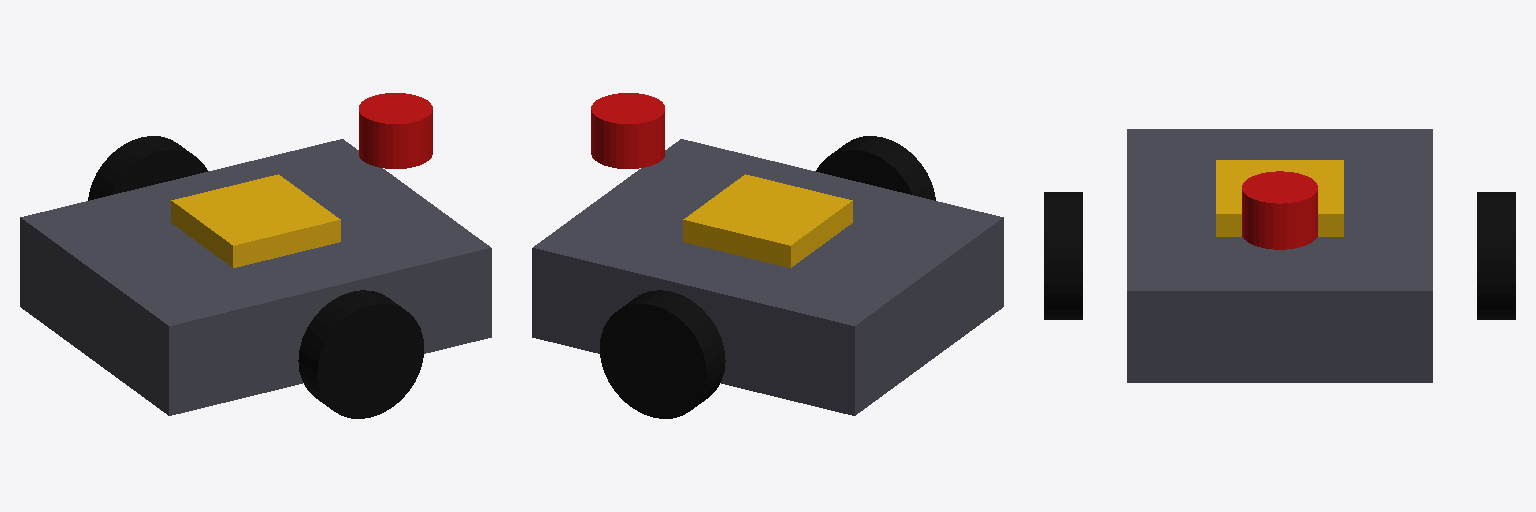
URDF robot description (mobile_manipulator):
<?xml version="1.0"?>
<!--
  Assignment 3, Task 4 — mount your Task 1 arm on this mobile base.

  Everything below the materials block is DONE for you: chassis, two drive
  wheels, a front caster, a 2D lidar, and an `arm_mount` plate on top. This
  is provided infrastructure, not something to design — your only job is
  the ARM SPLICE section near the bottom.

  How to splice your arm in:
    1. Open your completed Task 1 `arm.urdf`.
    2. Copy the THREE joints (shoulder_pitch, elbow_pitch, wrist_pitch) and
       THREE links (upper_arm, forearm, end_effector) into the marked
       section below. Do NOT copy `base_link` — the `arm_mount` plate
       below replaces it; you don't need two robot bases.
    3. In the shoulder_pitch joint you just pasted, change
         <parent link="base_link"/>
       to
         <parent link="arm_mount"/>
       That's it — leave the joint's <origin> exactly as you wrote it in
       Task 1. The 0.03 m your Task 1 base_link used to occupy just becomes
       a harmless standoff between the plate and the shoulder.

  Why this works: your arm's own root link happened to be named
  "base_link" too — the exact name this mobile base's chassis already
  uses. Two links can't share a name in one URDF, which is *why* you skip
  pasting the arm's base_link rather than renaming something.
-->
<robot name="mobile_manipulator">

  <material name="chassis_grey">
    <color rgba="0.35 0.35 0.4 1.0"/>
  </material>
  <material name="wheel_black">
    <color rgba="0.1 0.1 0.1 1.0"/>
  </material>
  <material name="caster_grey">
    <color rgba="0.5 0.5 0.5 1.0"/>
  </material>
  <material name="lidar_red">
    <color rgba="0.8 0.1 0.1 1.0"/>
  </material>
  <material name="mount_yellow">
    <color rgba="0.9 0.7 0.1 1.0"/>
  </material>
  <material name="blue">
    <color rgba="0.2 0.4 0.8 1.0"/>
  </material>
  <material name="orange">
    <color rgba="0.9 0.5 0.1 1.0"/>
  </material>
  <material name="green">
    <color rgba="0.2 0.7 0.3 1.0"/>
  </material>

  <!-- ============ base_link (chassis) — PROVIDED ============
       Box 0.30 x 0.24 x 0.08 m, mass 5.0 kg. Origin is at wheel-axle
       height (0.05 m off the ground = wheel radius), so the chassis box
       is centered on it (spans z = -0.04 .. +0.04).
  -->
  <link name="base_link">
    <visual>
      <origin xyz="0 0 0" rpy="0 0 0"/>
      <geometry>
        <box size="0.30 0.24 0.08"/>
      </geometry>
      <material name="chassis_grey"/>
    </visual>
    <collision>
      <origin xyz="0 0 0" rpy="0 0 0"/>
      <geometry>
        <box size="0.30 0.24 0.08"/>
      </geometry>
    </collision>
    <inertial>
      <origin xyz="0 0 0" rpy="0 0 0"/>
      <mass value="5.0"/>
      <inertia ixx="0.026667" iyy="0.040167" izz="0.061500"
               ixy="0" ixz="0" iyz="0"/>
    </inertial>
  </link>

  <!-- ============ drive wheels — PROVIDED ============
       Cylinders, radius 0.05 m, thickness 0.03 m, mass 0.3 kg each.
       Track width 0.34 m (0.17 m each side of centerline). The cylinder's
       own axis is Z; rpy="1.5708 0 0" rotates it onto Y so it rolls about
       the joint's axis. The <inertial> origin carries the same rotation,
       so ixx/iyy/izz below are the plain "cylinder spinning about Z"
       formulas (izz = 1/2 m r^2 is the spin axis, about local Z before
       rotation).
  -->
  <joint name="left_wheel_joint" type="continuous">
    <parent link="base_link"/>
    <child link="left_wheel"/>
    <origin xyz="0 0.17 0" rpy="0 0 0"/>
    <axis xyz="0 1 0"/>
  </joint>

  <link name="left_wheel">
    <visual>
      <origin xyz="0 0 0" rpy="1.5708 0 0"/>
      <geometry>
        <cylinder radius="0.05" length="0.03"/>
      </geometry>
      <material name="wheel_black"/>
    </visual>
    <collision>
      <origin xyz="0 0 0" rpy="1.5708 0 0"/>
      <geometry>
        <cylinder radius="0.05" length="0.03"/>
      </geometry>
    </collision>
    <inertial>
      <origin xyz="0 0 0" rpy="1.5708 0 0"/>
      <mass value="0.3"/>
      <inertia ixx="0.00021" iyy="0.00021" izz="0.000375"
               ixy="0" ixz="0" iyz="0"/>
    </inertial>
  </link>

  <joint name="right_wheel_joint" type="continuous">
    <parent link="base_link"/>
    <child link="right_wheel"/>
    <origin xyz="0 -0.17 0" rpy="0 0 0"/>
    <axis xyz="0 1 0"/>
  </joint>

  <link name="right_wheel">
    <visual>
      <origin xyz="0 0 0" rpy="1.5708 0 0"/>
      <geometry>
        <cylinder radius="0.05" length="0.03"/>
      </geometry>
      <material name="wheel_black"/>
    </visual>
    <collision>
      <origin xyz="0 0 0" rpy="1.5708 0 0"/>
      <geometry>
        <cylinder radius="0.05" length="0.03"/>
      </geometry>
    </collision>
    <inertial>
      <origin xyz="0 0 0" rpy="1.5708 0 0"/>
      <mass value="0.3"/>
      <inertia ixx="0.00021" iyy="0.00021" izz="0.000375"
               ixy="0" ixz="0" iyz="0"/>
    </inertial>
  </link>

  <!-- ============ caster — PROVIDED ============
       Sphere, radius 0.025 m, mass 0.2 kg, mounted front centre. Note the
       joint below is FIXED, not a roll axis: the sphere slides rather than
       rolls, so it skids slightly as the robot turns. That skid shows up
       as heading drift in the wheel odometry DiffDrive publishes, while
       the travelled distance stays accurate.

       This is not a bug to fix here — it is why Task 4 Part B needs a
       localization component at all. Localization corrects that drift
       against the map, so the robot still arrives at the goal.
  -->
  <joint name="caster_joint" type="fixed">
    <parent link="base_link"/>
    <child link="caster_wheel"/>
    <origin xyz="0.12 0 -0.025" rpy="0 0 0"/>
  </joint>

  <link name="caster_wheel">
    <visual>
      <origin xyz="0 0 0" rpy="0 0 0"/>
      <geometry>
        <sphere radius="0.025"/>
      </geometry>
      <material name="caster_grey"/>
    </visual>
    <collision>
      <origin xyz="0 0 0" rpy="0 0 0"/>
      <geometry>
        <sphere radius="0.025"/>
      </geometry>
    </collision>
    <inertial>
      <origin xyz="0 0 0" rpy="0 0 0"/>
      <mass value="0.2"/>
      <inertia ixx="0.00005" iyy="0.00005" izz="0.00005"
               ixy="0" ixz="0" iyz="0"/>
    </inertial>
  </link>

  <!-- ============ 2D lidar — PROVIDED ============
       Mounted front-top, forward-facing. Mass 0.15 kg. The actual
       <sensor> block (what makes this a real lidar in Gazebo) is in
       gazebo_plugins_diffdrive_snippet.xml — this link is just its
       mechanical mount point.
  -->
  <joint name="lidar_joint" type="fixed">
    <parent link="base_link"/>
    <child link="lidar_link"/>
    <origin xyz="0.13 0 0.10" rpy="0 0 0"/>
  </joint>

  <link name="lidar_link">
    <visual>
      <origin xyz="0 0 0" rpy="0 0 0"/>
      <geometry>
        <cylinder radius="0.03" length="0.04"/>
      </geometry>
      <material name="lidar_red"/>
    </visual>
    <collision>
      <origin xyz="0 0 0" rpy="0 0 0"/>
      <geometry>
        <cylinder radius="0.03" length="0.04"/>
      </geometry>
    </collision>
    <inertial>
      <origin xyz="0 0 0" rpy="0 0 0"/>
      <mass value="0.15"/>
      <inertia ixx="0.0000538" iyy="0.0000538" izz="0.0000675"
               ixy="0" ixz="0" iyz="0"/>
    </inertial>
  </link>

  <!-- ============ arm mount plate — PROVIDED ============
       Thin box, 0.10 x 0.10 x 0.02 m, mass 0.3 kg, sitting flush on top
       of the chassis. This is what your arm's shoulder joint attaches to.
  -->
  <joint name="arm_mount_joint" type="fixed">
    <parent link="base_link"/>
    <child link="arm_mount"/>
    <origin xyz="0 0 0.05" rpy="0 0 0"/>
  </joint>

  <link name="arm_mount">
    <visual>
      <origin xyz="0 0 0" rpy="0 0 0"/>
      <geometry>
        <box size="0.10 0.10 0.02"/>
      </geometry>
      <material name="mount_yellow"/>
    </visual>
    <collision>
      <origin xyz="0 0 0" rpy="0 0 0"/>
      <geometry>
        <box size="0.10 0.10 0.02"/>
      </geometry>
    </collision>
    <inertial>
      <origin xyz="0 0 0" rpy="0 0 0"/>
      <mass value="0.3"/>
      <inertia ixx="0.00026" iyy="0.00026" izz="0.0005"
               ixy="0" ixz="0" iyz="0"/>
    </inertial>
  </link>

  <!-- ============ TODO: ARM SPLICE — paste your Task 1 arm here ============
       Paste your shoulder_pitch joint + upper_arm link, elbow_pitch joint
       + forearm link, and wrist_pitch joint + end_effector link from
       arm.urdf below, unchanged, EXCEPT the shoulder_pitch joint's
       <parent link="..."/> which must read "arm_mount" (see header
       comment above). Do not paste base_link or its joint.
  -->

  <link name="upper_arm">
    <visual>
      <origin xyz="0 0 0" rpy="0 0 0"/>
      <geometry>
        <mesh filename="package://arm_description/meshes/upper_arm.stl"/>
      </geometry>
      <material name="blue"/>
    </visual>
    <collision>
      <geometry>
        <mesh filename="package://arm_description/meshes/upper_arm.stl"/>
      </geometry>
      <origin xyz="0 0 0" rpy="0 0 0"/>
    </collision>
    <inertial>
      <origin xyz="0 0 0.150" rpy="0 0 0"/>
      <mass value="1.590431"/>
      <inertia ixx="1.217674e-02" ixy="0" ixz="0" iyy="1.217674e-02" iyz="0" izz="4.970098e-04"/>
    </inertial>
  </link>

  <joint name="shoulder_pitch" type="revolute">
    <parent link="arm_mount"/>
    <child link="upper_arm"/>
    <origin xyz="0 0 0.030" rpy="0 0 0"/>
    <axis xyz="0 1 0"/>
    <limit lower="-1.57" upper="1.57" effort="10" velocity="1.0"/>
  </joint>

  <!-- ============ TODO: elbow_pitch joint + forearm link ============
       - parent: upper_arm, child: forearm
       - joint origin: top face of upper_arm -> xyz="0 0 <upper_arm h>"
       - axis: "0 1 0"
       - limit: a real elbow does NOT hyperextend backward past straight.
         Pick lower/upper so 0 = straight and it can only fold one way,
         up to 150 degrees.
       - forearm link: mesh forearm.stl, inertial from datasheet
  -->

  <link name="forearm">
    <visual>
      <origin xyz="0 0 0" rpy="0 0 0"/>
      <geometry>
        <mesh filename="package://arm_description/meshes/forearm.stl"/>
      </geometry>
      <material name="orange"/>
    </visual>
    <collision>
      <geometry>
        <mesh filename="package://arm_description/meshes/forearm.stl"/>
      </geometry>
      <origin xyz="0 0 0" rpy="0 0 0"/>
    </collision>
    <inertial>
      <origin xyz="0 0 0.1250" rpy="0 0 0"/>
      <mass value="0.848230"/>
      <inertia ixx="4.502688e-03" ixy="0" ixz="0" iyy="4.502688e-03" iyz="0" izz="1.696460e-04"/>
    </inertial>
  </link>

  <joint name="elbow_pitch" type="revolute">
    <parent link="upper_arm"/>
    <child link="forearm"/>
    <origin xyz="0 0 0.30" rpy="0 0 0"/>
    <axis xyz="0 1 0"/>
    <limit lower="0" upper="2.61799" effort="10" velocity="1.0"/>
  </joint>


  <!-- ============ TODO: wrist_pitch joint + end_effector link ============
       - parent: forearm, child: end_effector
       - joint origin: top face of forearm -> xyz="0 0 <forearm h>"
       - axis: "0 1 0"
       - limit: wrist range +/-45 deg
       - end_effector link: mesh end_effector.stl, inertial from datasheet
  -->

<link name="end_effector">
    <visual>
      <origin xyz="0 0 0" rpy="0 0 0"/>
      <geometry>
        <mesh filename="package://arm_description/meshes/end_effector.stl"/>
      </geometry>
      <material name="green"/>
    </visual>
    <collision>
      <geometry>
        <mesh filename="package://arm_description/meshes/end_effector.stl"/>
      </geometry>
      <origin xyz="0 0 0" rpy="0 0 0"/>
    </collision>
    <inertial>
      <origin xyz="0 0 0.0500" rpy="0 0 0"/>
      <mass value="0.190852"/>
      <inertia ixx="1.697785e-04" ixy="0" ixz="0" iyy="1.697785e-04" iyz="0" izz="2.147082e-05"/>
    </inertial>
  </link>

  <joint name="wrist_pitch" type="revolute">
    <parent link="forearm"/>
    <child link="end_effector"/>
    <origin xyz="0 0 0.250" rpy="0 0 0"/>
    <axis xyz="0 1 0"/>
    <limit lower="-0.785398" upper="0.785398" effort="10" velocity="1.0"/>
  </joint>

  <!-- ============ end ARM SPLICE ============ -->

  <gazebo>
    <plugin filename="gz-sim-diff-drive-system"
            name="gz::sim::systems::DiffDrive">
      <left_joint>left_wheel_joint</left_joint>
      <right_joint>right_wheel_joint</right_joint>
      <wheel_separation>0.34</wheel_separation>
      <wheel_radius>0.05</wheel_radius>
      <topic>/cmd_vel</topic>
      <odom_topic>odom</odom_topic>
      <frame_id>odom</frame_id>
      <child_frame_id>base_link</child_frame_id>
      <odom_publish_frequency>30</odom_publish_frequency>
      <tf_topic>/tf</tf_topic>
      <max_linear_acceleration>1.0</max_linear_acceleration>
      <min_linear_acceleration>-1.0</min_linear_acceleration>
      <max_angular_acceleration>2.0</max_angular_acceleration>
      <min_angular_acceleration>-2.0</min_angular_acceleration>
    </plugin>
  </gazebo>

  <gazebo>
    <plugin filename="gz-sim-joint-state-publisher-system"
            name="gz::sim::systems::JointStatePublisher"/>
  </gazebo>

  <gazebo reference="lidar_link">
    <sensor name="lidar" type="gpu_lidar">
      <topic>scan</topic>
      <update_rate>10</update_rate>
      <always_on>1</always_on>
      <visualize>true</visualize>
      <gz_frame_id>lidar_link</gz_frame_id>
      <lidar>
        <!-- 320 deg, not a full 360. The arm you splice on stands at the
            chassis centre, 0.13 m directly behind this lidar, so a
            full-circle scan sees the arm itself: returns that land inside
            the robot's own footprint, which Nav2's collision_monitor reads
            as a permanent imminent collision. Blanking the rear arc is the
            normal fix for a sensor that can see part of its own robot. -->
        <scan>
          <horizontal>
            <samples>320</samples>
            <resolution>1</resolution>
            <min_angle>-2.79253</min_angle>
            <max_angle>2.79253</max_angle>
          </horizontal>
        </scan>
        <range>
          <min>0.10</min>
          <max>8.0</max>
          <resolution>0.01</resolution>
        </range>
      </lidar>
    </sensor>
  </gazebo>

  <gazebo>
    <plugin filename="gz-sim-joint-position-controller-system"
            name="gz::sim::systems::JointPositionController">
      <joint_name>shoulder_pitch</joint_name>
      <p_gain>50.0</p_gain>
      <i_gain>0.0</i_gain>
      <d_gain>5.0</d_gain>
      <i_max>1.0</i_max>
      <i_min>-1.0</i_min>
      <cmd_max>10</cmd_max>
      <cmd_min>-10</cmd_min>
    </plugin>
  </gazebo>

  <gazebo>
    <plugin filename="gz-sim-joint-position-controller-system"
            name="gz::sim::systems::JointPositionController">
      <joint_name>elbow_pitch</joint_name>
      <p_gain>50.0</p_gain>
      <i_gain>0.0</i_gain>
      <d_gain>5.0</d_gain>
      <i_max>1.0</i_max>
      <i_min>-1.0</i_min>
      <cmd_max>10</cmd_max>
      <cmd_min>-10</cmd_min>
    </plugin>
  </gazebo>

  <gazebo>
    <plugin filename="gz-sim-joint-position-controller-system"
            name="gz::sim::systems::JointPositionController">
      <joint_name>wrist_pitch</joint_name>
      <p_gain>50.0</p_gain>
      <i_gain>0.0</i_gain>
      <d_gain>5.0</d_gain>
      <i_max>1.0</i_max>
      <i_min>-1.0</i_min>
      <cmd_max>10</cmd_max>
      <cmd_min>-10</cmd_min>
    </plugin>
  </gazebo>

</robot>

--- Render facts (derived) ---
Views: 3 orthographic renders of the robot side by side, from view 1: azimuth 30°, elevation 25°; view 2: azimuth 150°, elevation 25°; view 3: azimuth 270°, elevation 25°.
Robot: mobile_manipulator — 9 links, 8 joints (3 revolute, 2 continuous, 3 fixed); root link base_link; default pose: every joint at zero.
Visible links, largest first — view 1: base_link, right_wheel, arm_mount, lidar_link, left_wheel; view 2: base_link, left_wheel, arm_mount, lidar_link, right_wheel; view 3: base_link, lidar_link, arm_mount, left_wheel, right_wheel.
Link boxes in pixels (bbox=[...]): base_link: bbox=[20, 139, 491, 415]; right_wheel: bbox=[298, 290, 423, 418]; arm_mount: bbox=[171, 174, 340, 267]; lidar_link: bbox=[359, 93, 432, 168]; left_wheel: bbox=[88, 136, 207, 200]; base_link: bbox=[532, 139, 1003, 415]; left_wheel: bbox=[600, 290, 725, 418]; arm_mount: bbox=[683, 174, 852, 267]; lidar_link: bbox=[591, 93, 664, 168]; right_wheel: bbox=[816, 136, 935, 200]; base_link: bbox=[1127, 129, 1432, 382]; lidar_link: bbox=[1242, 171, 1317, 249]; arm_mount: bbox=[1216, 160, 1343, 236]; left_wheel: bbox=[1477, 192, 1515, 319]; right_wheel: bbox=[1044, 192, 1082, 319].
Bounding box of the posed robot: 0.31 × 0.37 × 0.17 m (x, y, z).
Meshes: 3 distinct files referenced, 0 mesh visuals loaded (none loaded); not drawn: 3 (reference not matched to a file when rendering).
